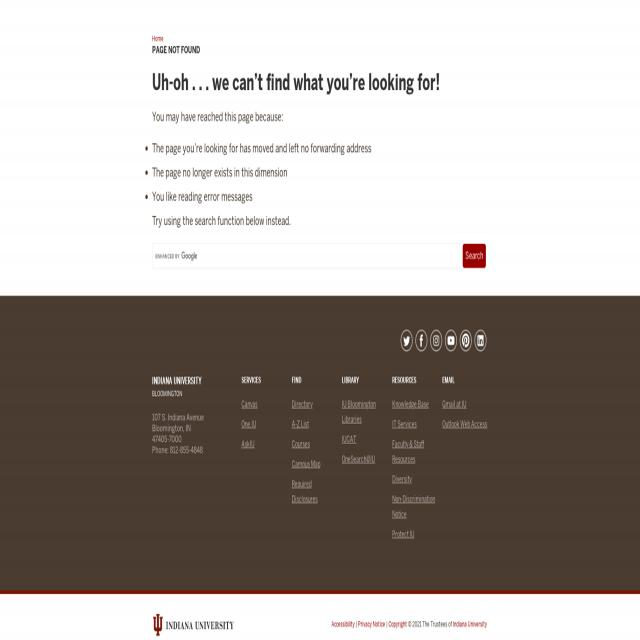button: (148, 608, 238, 640), (462, 244, 486, 268), (401, 330, 413, 351), (416, 330, 428, 351), (430, 330, 442, 351), (445, 330, 457, 351), (460, 330, 472, 351), (474, 330, 486, 351)
field: (152, 244, 458, 268)
